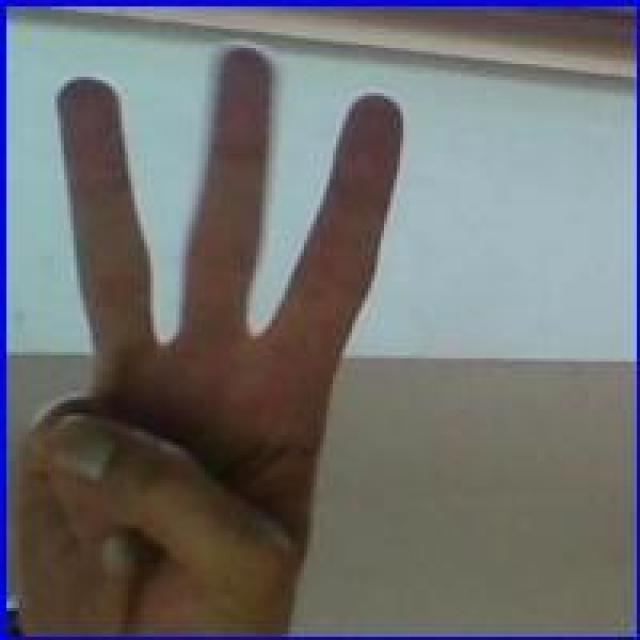W: (22, 41, 406, 634)
